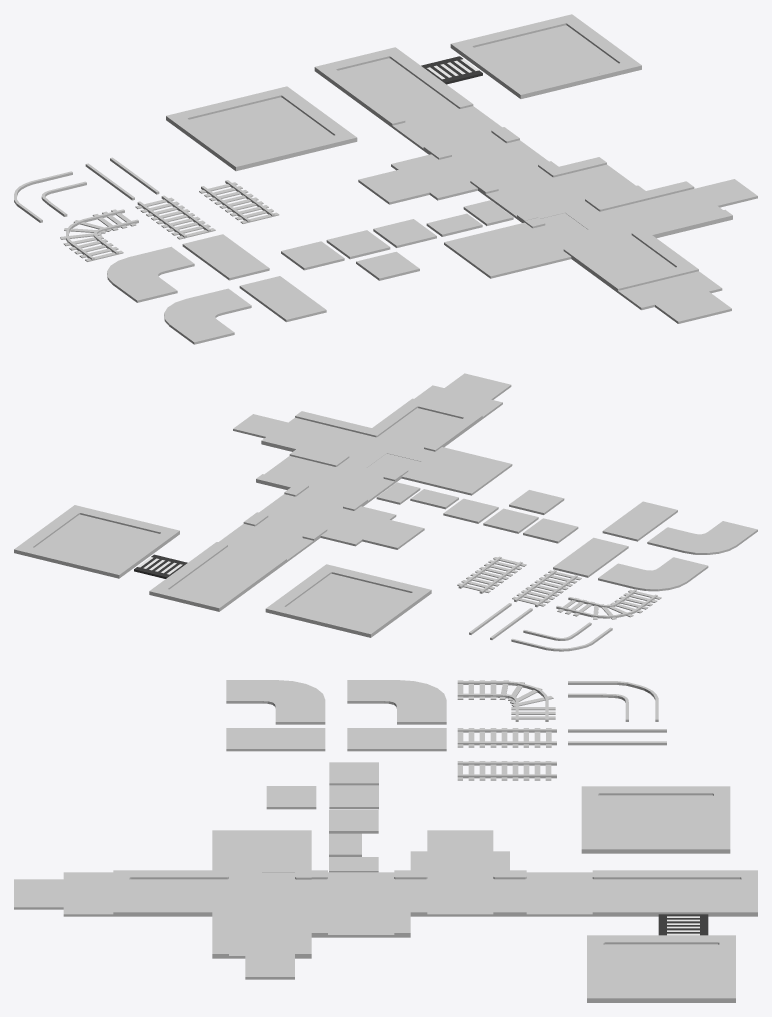
The model's file is RoadParts.fbx.
3 renders of one model, top to bottom at view 1: azimuth 30°, elevation 25°; view 2: azimuth 150°, elevation 25°; view 3: azimuth 270°, elevation 25°, orthographic. The views are drawn at different scales.
Parts seen in each view (by area): view 1: Rail_stand_with_turn_asphalt, Rail_stand_with_turn_grass, Rail_stand_grass, Rail_stand_asphalt, Train_rails_with_turn, Train_rails, Train_rails.001, Road_corner_with_vertical_parking_line_1, Road_corner_with_horizontal_parking_line_3, Road_corner_with_horizontal_parking_line_1, Pavement_light_1, Pavement_dark_1 (+66 smaller); view 2: Rail_stand_with_turn_grass, Rail_stand_with_turn_asphalt, Rail_stand_asphalt, Rail_stand_grass, Train_rails_with_turn, Train_rails.001, Train_rails, Road_corner_1, Road_corner_with_vertical_parking_line_3, Road_corner_with_horizontal_parking_line_4, Road_with_marking_square_without_pavement_3, Pavement_dark_1 (+66 smaller); view 3: Rail_stand_with_turn_asphalt, Rail_stand_with_turn_grass, Rail_stand_grass, Rail_stand_asphalt, Train_rails_with_turn, Train_rails.001, Train_rails, Road_corner_with_horizontal_parking_line_1, Road_without_marking_square_4, Road_corner_2, Road_corner_4, Road_corner_with_horizontal_parking_line_2 (+67 smaller).
Part boxes in pixels (box(x1,y1,x2,y2)): Rail_stand_with_turn_asphalt: box(164, 288, 251, 344); Rail_stand_with_turn_grass: box(107, 246, 194, 302); Rail_stand_grass: box(182, 234, 269, 280); Rail_stand_asphalt: box(239, 276, 326, 322); Train_rails_with_turn: box(60, 209, 138, 261); Train_rails: box(135, 195, 215, 239); Train_rails.001: box(199, 180, 279, 223); Road_corner_with_vertical_parking_line_1: box(497, 70, 561, 98); Road_corner_with_horizontal_parking_line_3: box(212, 142, 276, 171); Road_corner_with_horizontal_parking_line_1: box(294, 120, 357, 151); Pavement_light_1: box(326, 230, 390, 259); Pavement_dark_1: box(281, 241, 344, 270); Rail_stand_with_turn_grass: box(598, 557, 708, 591); Rail_stand_with_turn_asphalt: box(647, 521, 757, 554); Rail_stand_asphalt: box(602, 501, 677, 541); Rail_stand_grass: box(553, 537, 628, 577); Train_rails_with_turn: box(556, 589, 661, 619); Train_rails.001: box(457, 556, 526, 593); Train_rails: box(512, 570, 581, 607); Road_corner_1: box(184, 586, 239, 611); Road_corner_with_vertical_parking_line_3: box(84, 553, 139, 578); Road_corner_with_horizontal_parking_line_4: box(335, 612, 390, 637); Road_with_marking_square_without_pavement_3: box(436, 470, 491, 495); Pavement_dark_1: box(523, 518, 578, 543); Rail_stand_with_turn_asphalt: box(226, 680, 325, 724); Rail_stand_with_turn_grass: box(347, 680, 446, 724); Rail_stand_grass: box(347, 728, 446, 751); Rail_stand_asphalt: box(226, 728, 325, 751); Train_rails_with_turn: box(457, 680, 555, 721); Train_rails.001: box(457, 761, 556, 780); Train_rails: box(457, 728, 556, 747); Road_corner_with_horizontal_parking_line_1: box(581, 828, 631, 853); Road_without_marking_square_4: box(311, 912, 361, 937); Road_corner_2: box(708, 891, 757, 916); Road_corner_4: box(113, 891, 162, 916); Road_corner_with_horizontal_parking_line_2: box(681, 828, 730, 853).
Bounding box in the file's own units: 138 × 1.06 × 135.
